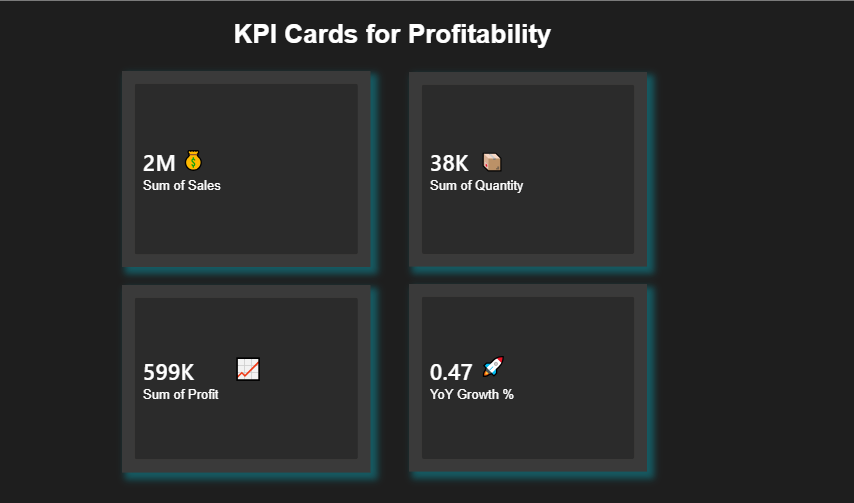

The dashboard page shown, as its layout file describes it:
{"tool":"powerbi","page":{"name":"KPI cards for profitability","canvas":[1280,720],"ordinal":4},"visuals":[{"type":"cardVisual","fields":{"Data":["Sum(Sheet3.Sales)"]},"box":[205,100,355,280],"z":0},{"type":"cardVisual","fields":{"Data":["Sheet3.YoY Growth %"]},"box":[615,404.9,340,268],"z":1000},{"type":"cardVisual","fields":{"Data":["Sum(Sheet3.Quantity)"]},"box":[615,100.9,340,278],"z":2000},{"type":"cardVisual","fields":{"Data":["Sum(Sheet3.Profit)"]},"box":[205,405,355,267.5],"z":3000},{"type":"textbox","box":[360,21.4,510,52.9],"z":4000},{"type":"textbox","box":[287.1,188.6,122.9,85.7],"z":5000},{"type":"textbox","box":[712.9,207.1,60,47.1],"z":6000},{"type":"textbox","box":[360,497.1,137.1,81.4],"z":7000},{"type":"textbox","box":[712.9,497.1,75.7,64.3],"z":8000}]}

Visuals, with their boxes on the page's 1280x720 design canvas (x1, y1, x2, y2). These are canvas units, not pixel positions in the 854x503 screenshot, which may show the page scaled, cropped or inside an application window:
cardVisual - Sum(Sheet3.Sales): bbox(205, 100, 560, 380)
cardVisual - Sheet3.YoY Growth %: bbox(615, 405, 955, 673)
cardVisual - Sum(Sheet3.Quantity): bbox(615, 101, 955, 379)
cardVisual - Sum(Sheet3.Profit): bbox(205, 405, 560, 672)
textbox: bbox(360, 21, 870, 74)
textbox: bbox(287, 189, 410, 274)
textbox: bbox(713, 207, 773, 254)
textbox: bbox(360, 497, 497, 578)
textbox: bbox(713, 497, 789, 561)
